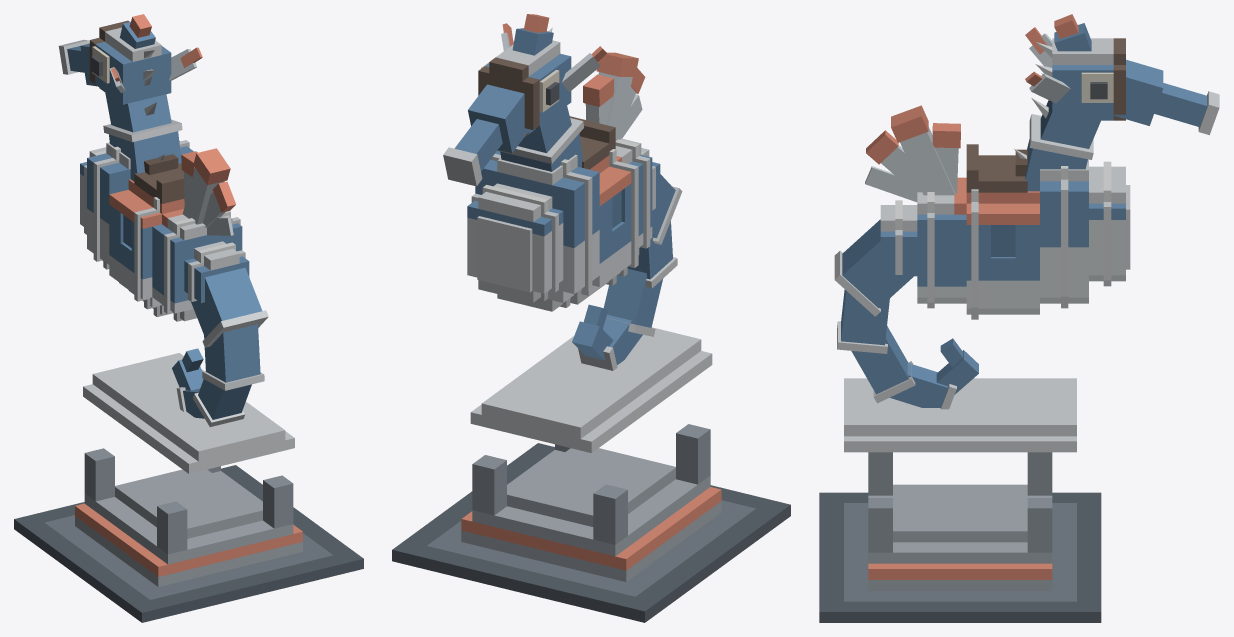
File: SeahorseTrainer6.glb
3 views of the same model, side by side, from view 1: azimuth 30°, elevation 25°; view 2: azimuth 150°, elevation 25°; view 3: azimuth 270°, elevation 25° (orthographic). The views are drawn at different scales.
Visible parts, largest first — view 1: Stand, Body, Plate, Head, Fin, T1, T2, T3, T5, T4; view 2: Stand, Body, Plate, Head, Fin, T3, T4, T2, T1, T5; view 3: Stand, Body, Plate, Head, Fin, T1, T2, T3, T4, T5.
Part boxes in pixels (x1=…): Stand: x1=14, y1=448, x2=363, y2=622; Body: x1=80, y1=77, x2=249, y2=321; Plate: x1=83, y1=353, x2=294, y2=473; Head: x1=58, y1=14, x2=202, y2=104; Fin: x1=181, y1=148, x2=235, y2=235; T1: x1=191, y1=267, x2=268, y2=347; T2: x1=202, y1=324, x2=264, y2=390; T3: x1=192, y1=379, x2=251, y2=426; T5: x1=172, y1=359, x2=203, y2=390; T4: x1=176, y1=387, x2=204, y2=418; Stand: x1=392, y1=424, x2=790, y2=622; Body: x1=467, y1=106, x2=660, y2=311; Plate: x1=470, y1=327, x2=712, y2=452; Head: x1=443, y1=14, x2=606, y2=186; Fin: x1=583, y1=52, x2=645, y2=140; T3: x1=603, y1=268, x2=662, y2=336; T4: x1=578, y1=314, x2=642, y2=370; T2: x1=627, y1=221, x2=677, y2=288; T1: x1=652, y1=174, x2=682, y2=244; T5: x1=572, y1=321, x2=613, y2=360; Stand: x1=819, y1=452, x2=1101, y2=622; Body: x1=880, y1=73, x2=1130, y2=319; Plate: x1=844, y1=378, x2=1076, y2=452; Head: x1=1025, y1=14, x2=1219, y2=135; Fin: x1=865, y1=105, x2=960, y2=202; T1: x1=834, y1=219, x2=917, y2=316; T2: x1=837, y1=289, x2=889, y2=353; T3: x1=851, y1=326, x2=915, y2=403; T4: x1=890, y1=363, x2=956, y2=409; T5: x1=936, y1=350, x2=978, y2=394.
Size of the model in its own units: 9.2 by 19.67 by 13.06.
